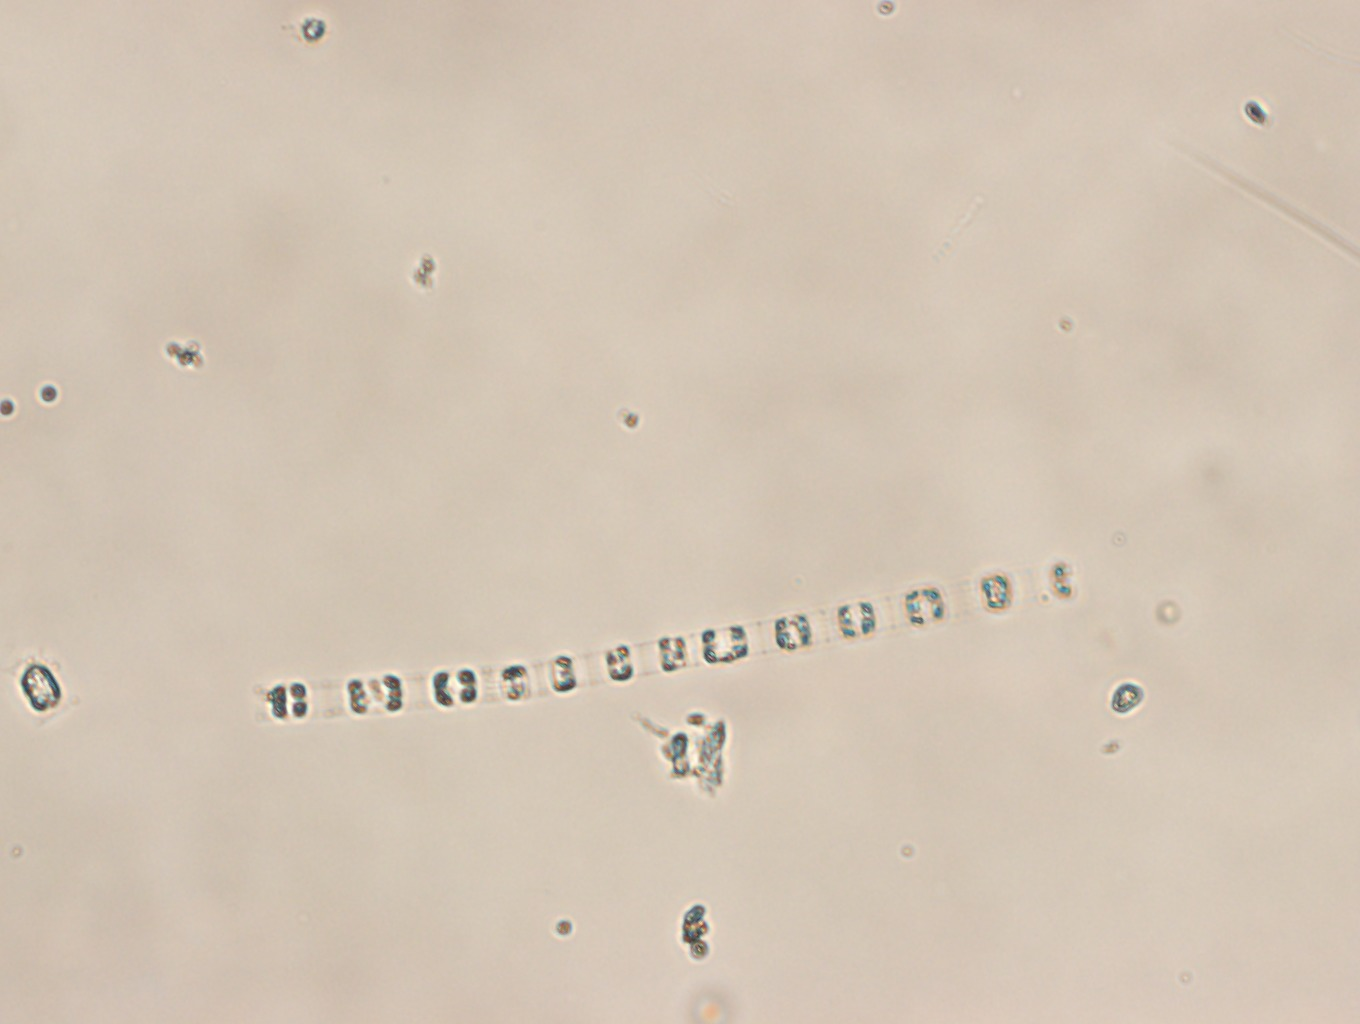skeletonema: (250, 559, 1077, 726)
